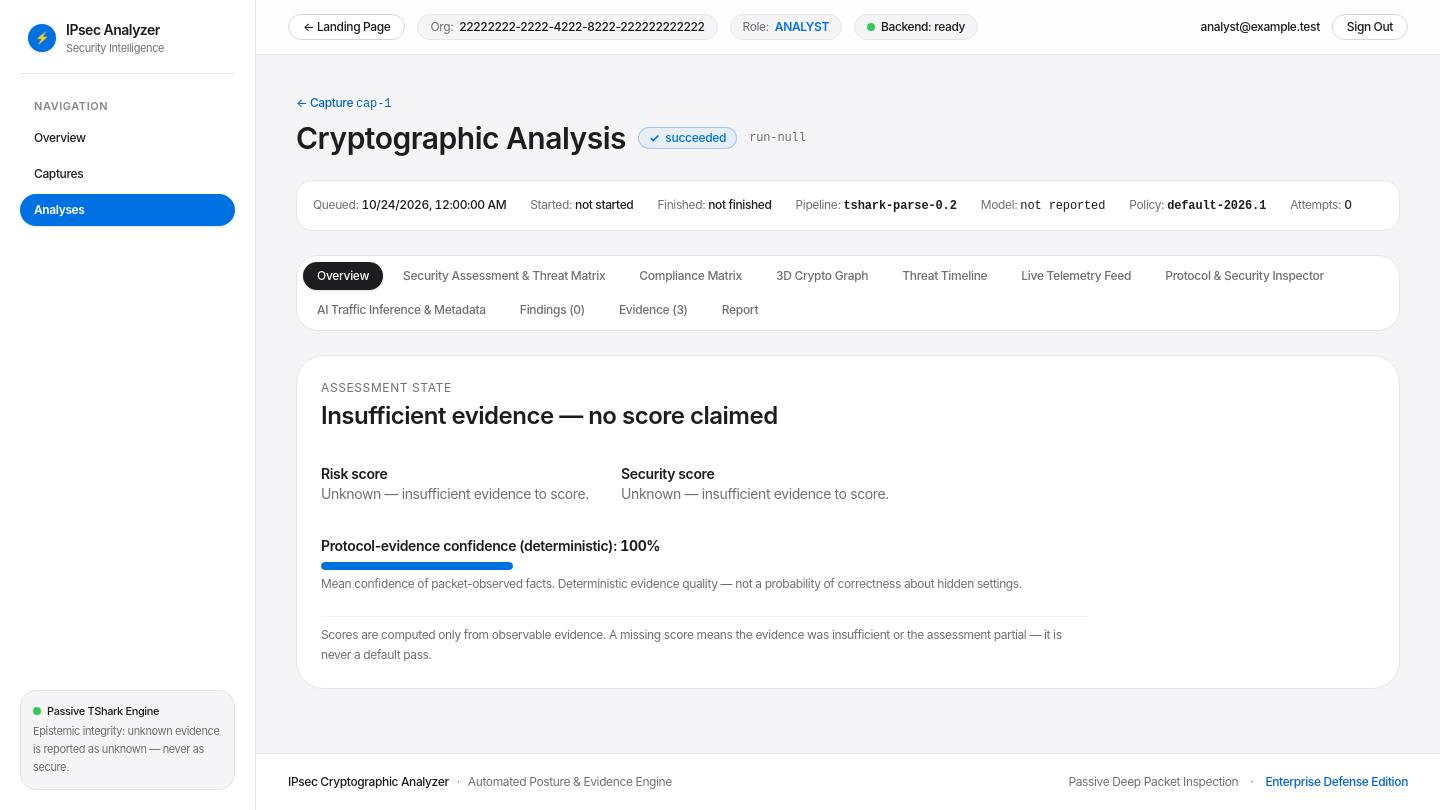
Test: security assessment tab › insufficient_evidence: shows Score Withheld card, never 0/green
Click the tab "Security Assessment & Threat Matrix": click(504, 276) [389,262,619,290]
(page scrolled)
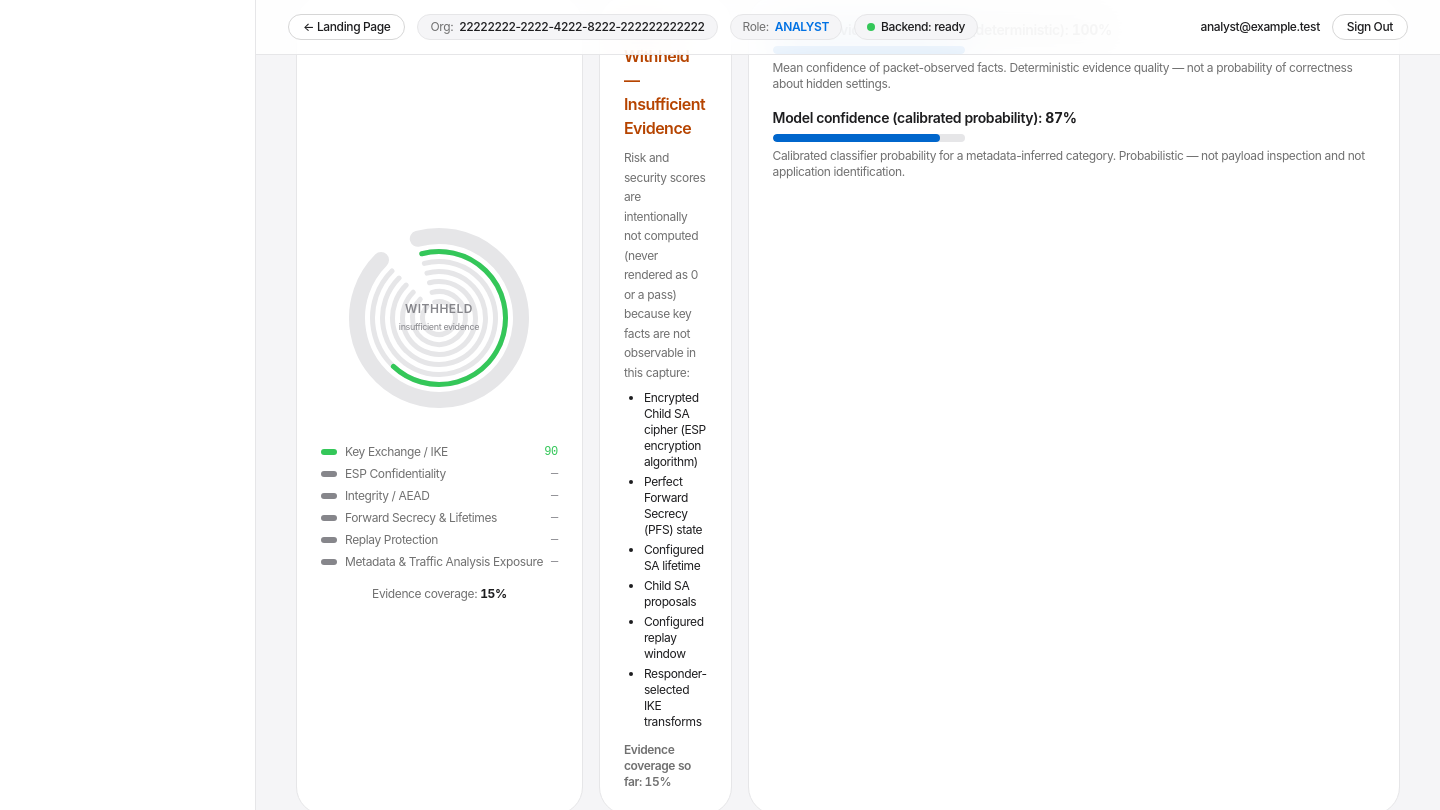
Check: the field labelled "Score withheld" does not show "Secure"
Check: the element labelled "Score Withheld" shows "Encrypted Child SA cipher", box [644,390,706,469]
